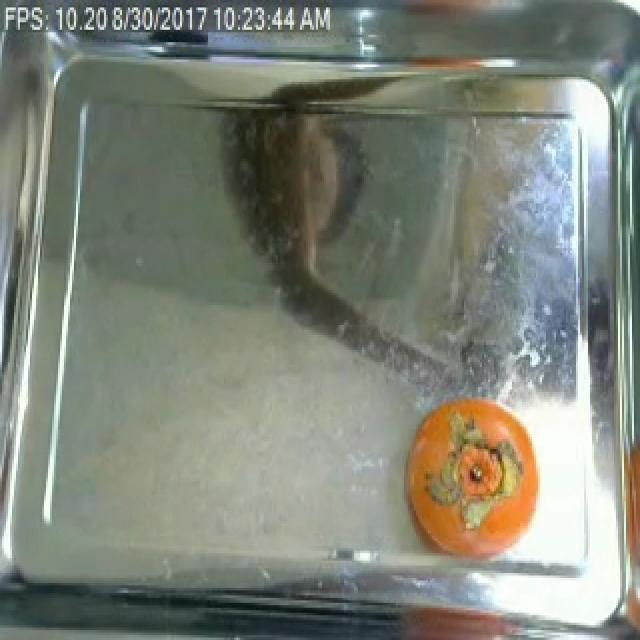Fruit: (238, 109, 348, 275), (400, 390, 510, 553), (384, 595, 542, 640)
